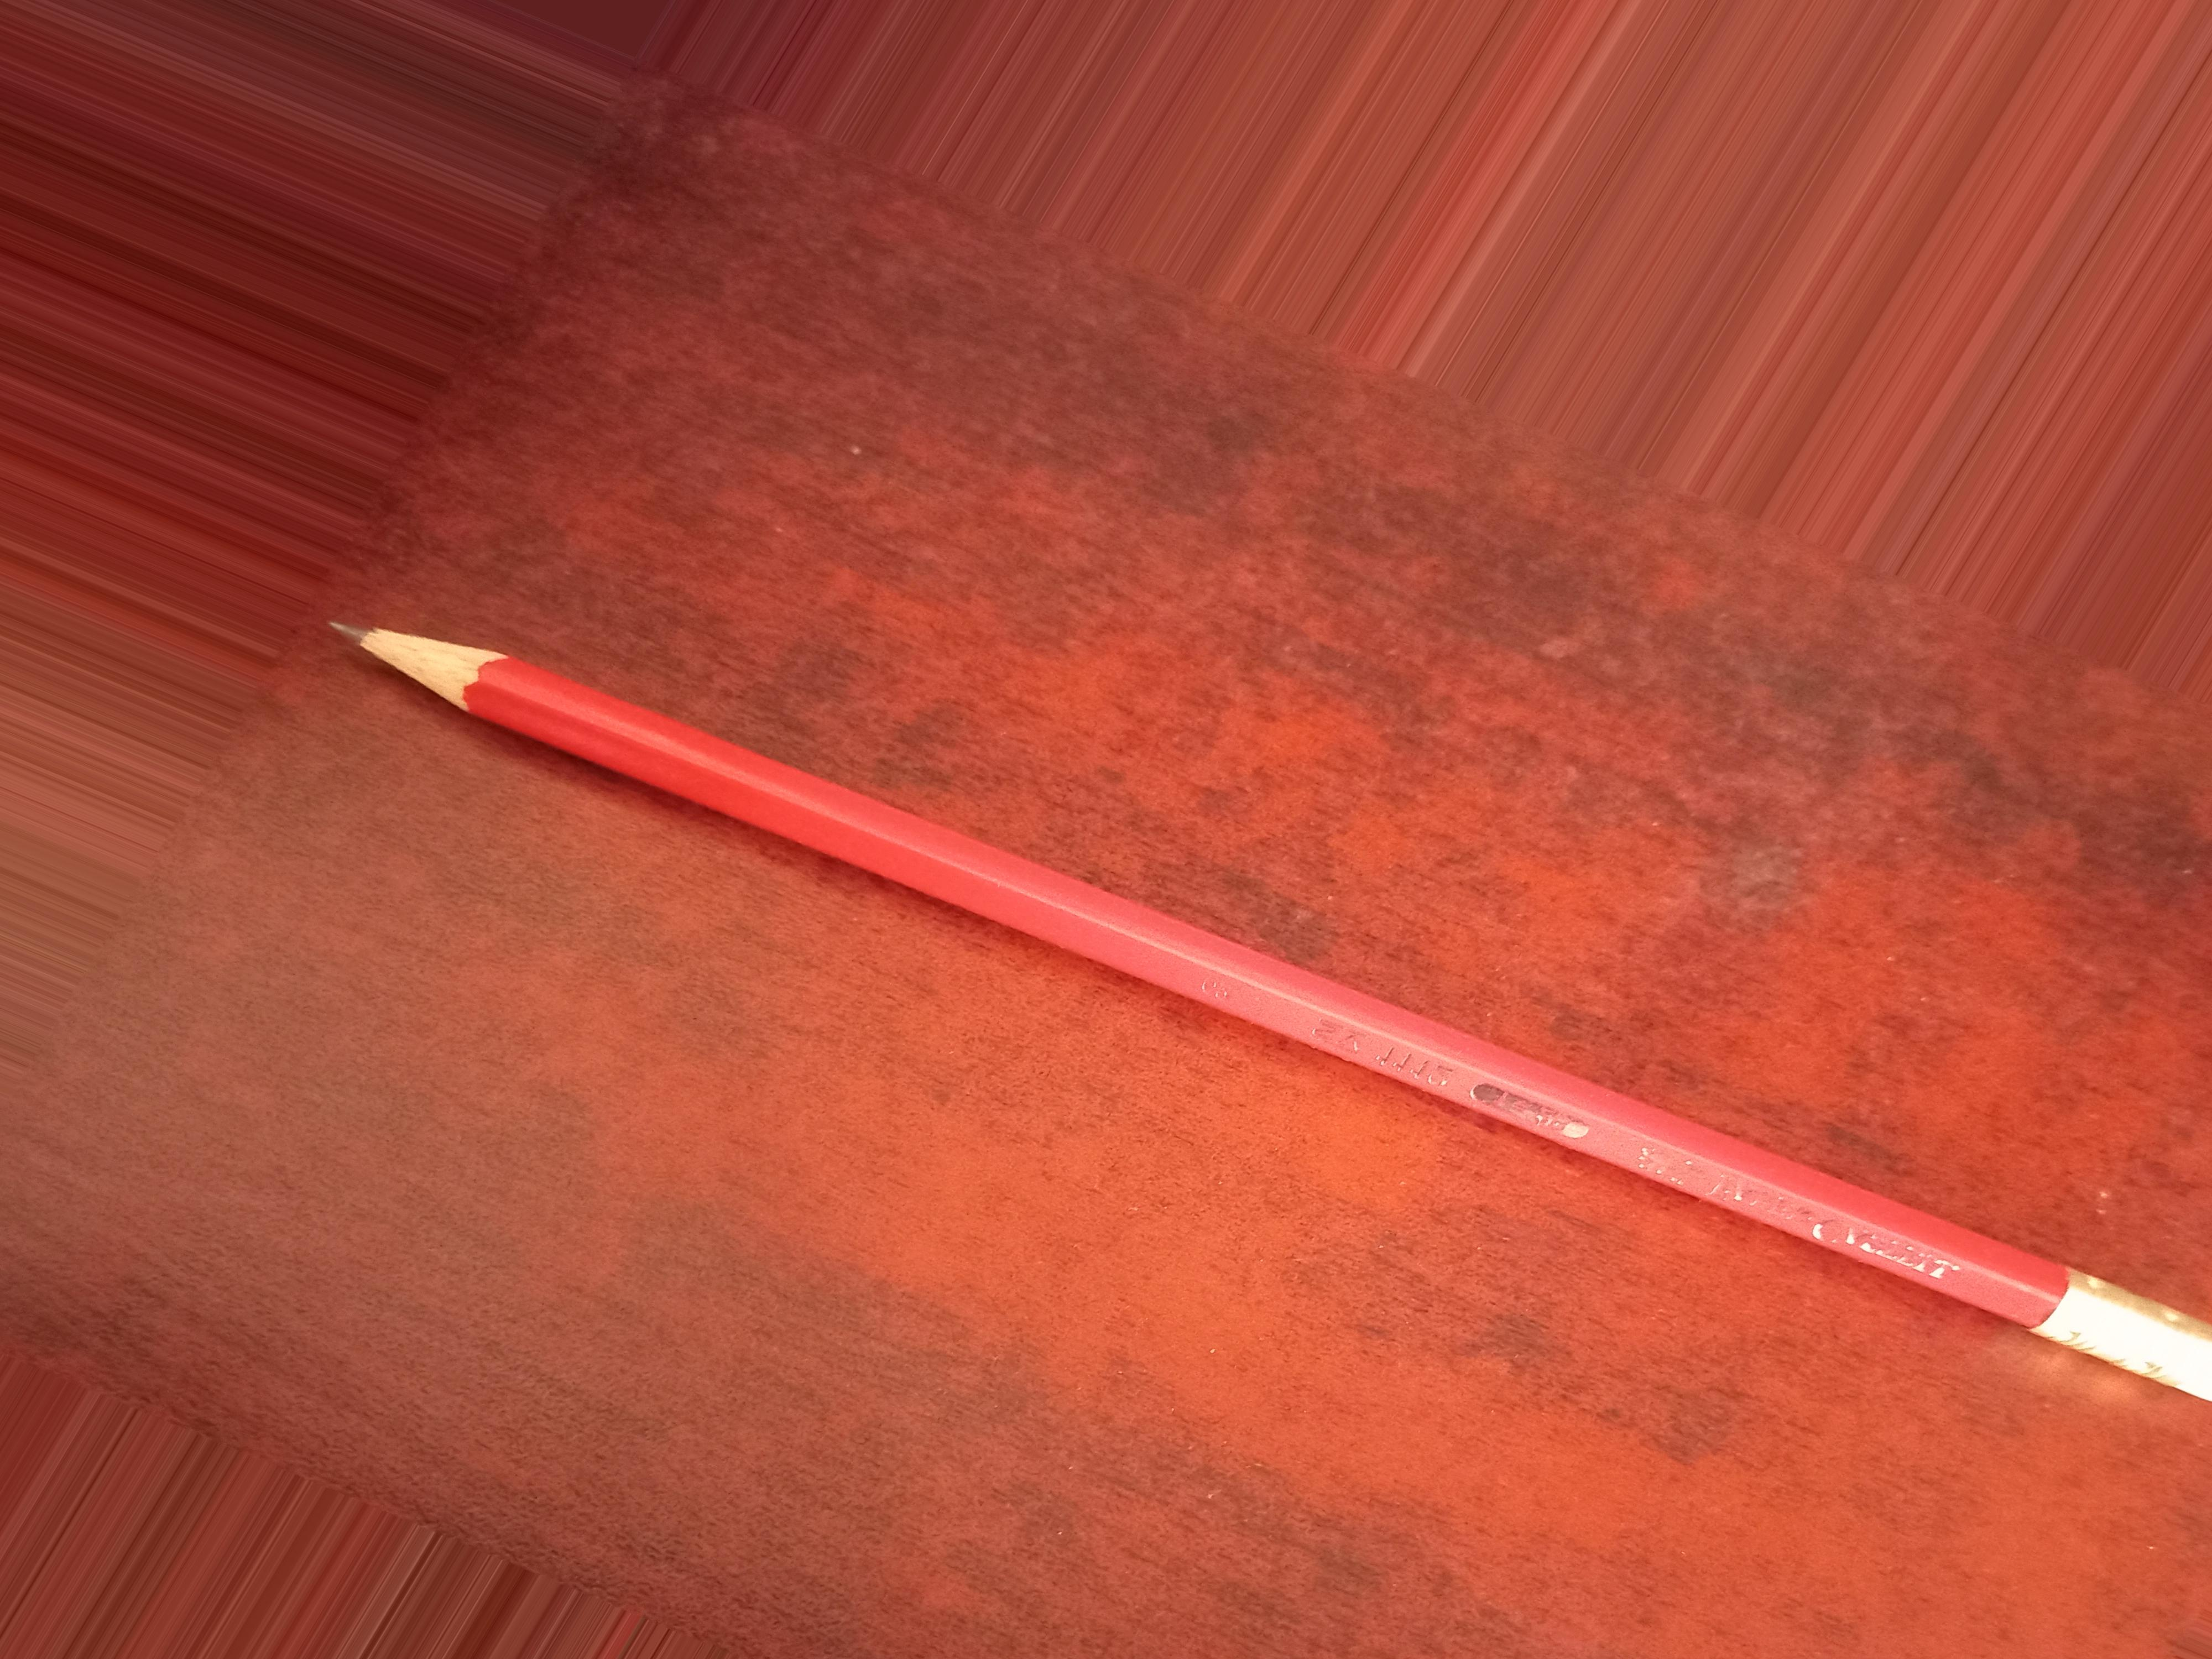pencil: (305, 559, 2212, 1403)
